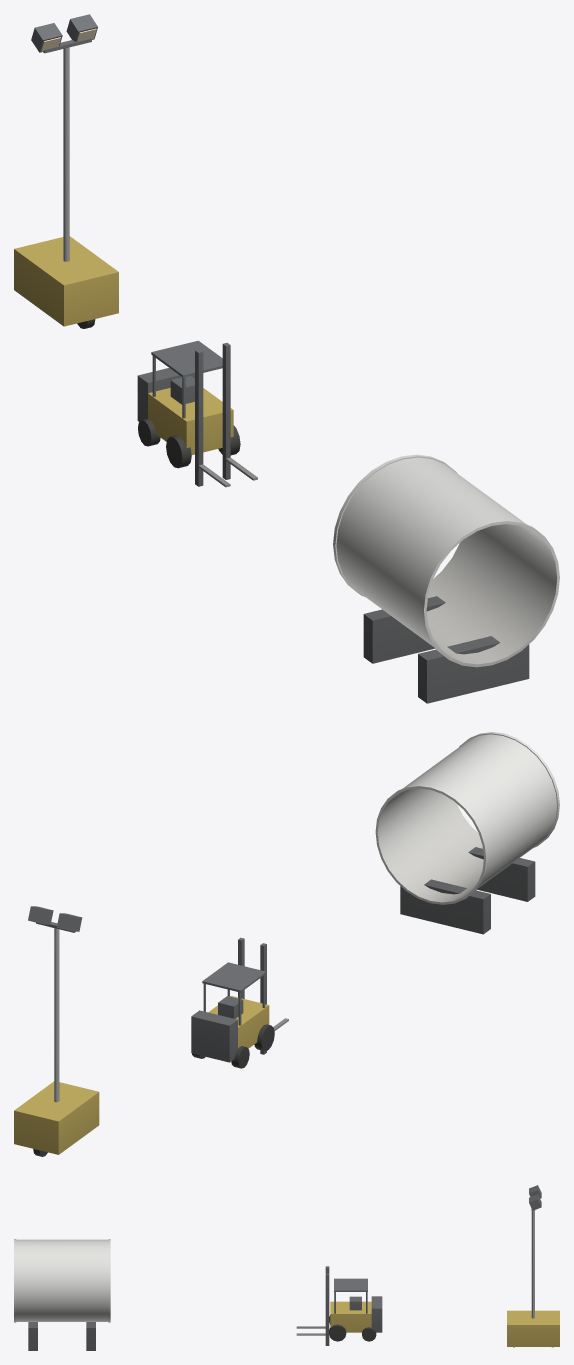
File: kit_w.glb
3 views of the same model, one above another, from view 1: azimuth 30°, elevation 25°; view 2: azimuth 150°, elevation 25°; view 3: azimuth 270°, elevation 25° (orthographic). The views are drawn at different scales.
Parts seen in each view (by area): view 1: kit_w; view 2: kit_w; view 3: kit_w.
Boxes of the visible parts, <box> form: kit_w: <box>14,14,559,703</box>; kit_w: <box>14,732,559,1156</box>; kit_w: <box>14,1185,559,1350</box>.
Size of the model in its own units: 4.03 by 7.39 by 22.6.
